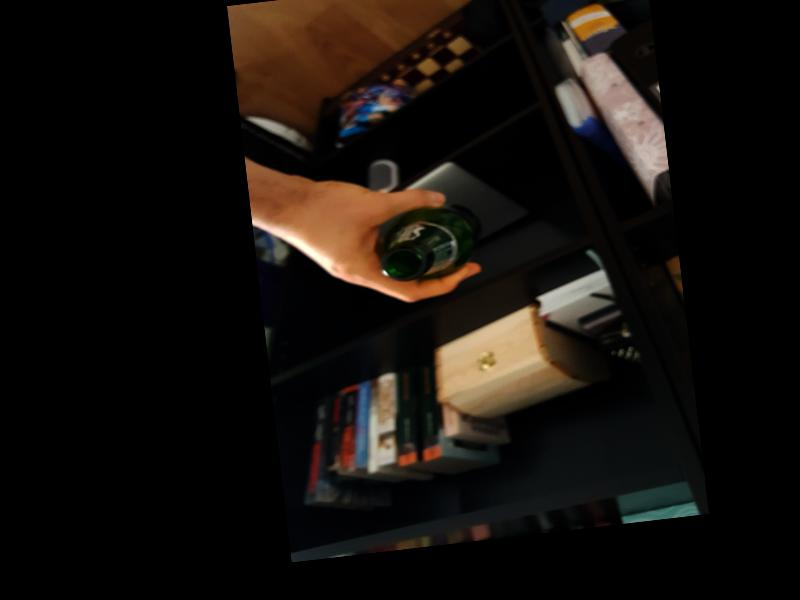Beer: (373, 197, 485, 282)
